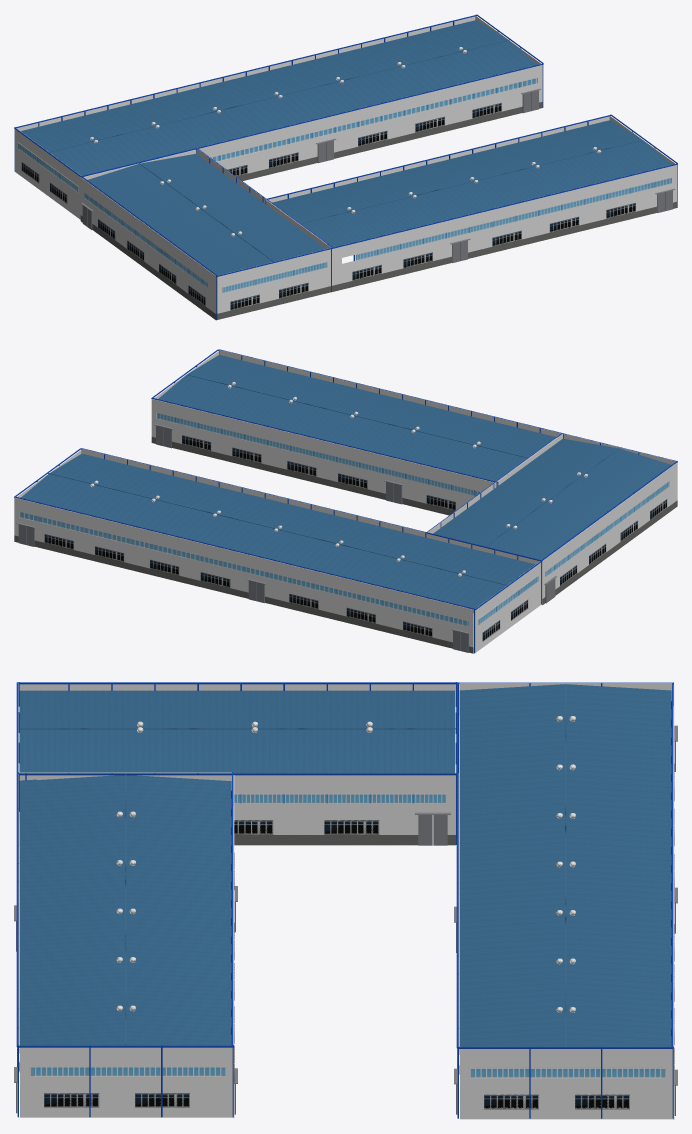
3 views of the same model, one above another, from view 1: azimuth 30°, elevation 25°; view 2: azimuth 150°, elevation 25°; view 3: azimuth 270°, elevation 25° (orthographic). The views are drawn at different scales.
Parts seen in each view (by area): view 1: 顶棚, 顶棚002, 顶棚001, Box_Qiang_006, Box_Qiang_002, Box_Qiang_003, Box133, Box059, 顶窗002, 顶窗011, Box_Qiang_001, Box_Qiang_005 (+9 smaller); view 2: 顶棚, 顶棚002, Box_Qiang_001, 顶棚001, Box_Qiang_005, Box_Qiang_003, 顶窗001, Box_Qiang_002, Box059, 顶窗010, Box_Qiang_006, 顶窗006 (+6 smaller); view 3: 顶棚, 顶棚002, 顶棚001, Box_Qiang_004, Box188, Box082, Box_Qiang_003, 顶窗007, 顶窗005, 顶窗013, Box104, Box127 (+13 smaller).
Boxes of the visible parts, bbox=[...] form: 顶棚: bbox=[20, 20, 537, 175]; 顶棚002: bbox=[272, 120, 671, 247]; 顶棚001: bbox=[87, 153, 325, 275]; Box_Qiang_006: bbox=[332, 165, 676, 291]; Box_Qiang_002: bbox=[84, 65, 542, 180]; Box_Qiang_003: bbox=[80, 177, 216, 320]; Box133: bbox=[217, 248, 330, 319]; Box059: bbox=[15, 128, 80, 219]; 顶窗002: bbox=[210, 77, 537, 161]; 顶窗011: bbox=[355, 177, 671, 260]; Box_Qiang_001: bbox=[17, 16, 475, 130]; Box_Qiang_005: bbox=[264, 116, 609, 203]; 顶棚: bbox=[21, 453, 535, 612]; 顶棚002: bbox=[158, 355, 555, 481]; Box_Qiang_001: bbox=[14, 497, 473, 653]; 顶棚001: bbox=[433, 438, 671, 559]; Box_Qiang_005: bbox=[151, 399, 496, 515]; Box_Qiang_003: bbox=[542, 462, 677, 605]; 顶窗001: bbox=[19, 511, 468, 626]; Box_Qiang_002: bbox=[82, 448, 539, 564]; Box059: bbox=[475, 562, 540, 652]; 顶窗010: bbox=[157, 412, 480, 496]; Box_Qiang_006: bbox=[219, 350, 561, 436]; 顶窗006: bbox=[545, 481, 669, 577]; 顶棚: bbox=[459, 684, 671, 1054]; 顶棚002: bbox=[19, 775, 231, 1052]; 顶棚001: bbox=[19, 690, 454, 773]; Box_Qiang_004: bbox=[37, 775, 455, 845]; Box188: bbox=[20, 1047, 233, 1117]; Box082: bbox=[460, 1049, 673, 1119]; Box_Qiang_003: bbox=[19, 684, 454, 690]; 顶窗007: bbox=[233, 793, 446, 803]; 顶窗005: bbox=[469, 1067, 665, 1078]; 顶窗013: bbox=[29, 1066, 225, 1076]; Box104: bbox=[18, 773, 456, 775]; Box127: bbox=[18, 682, 456, 684].
Bounding box in the file's own units: 1212 × 116 × 926.
8 materials, 4 textured.
